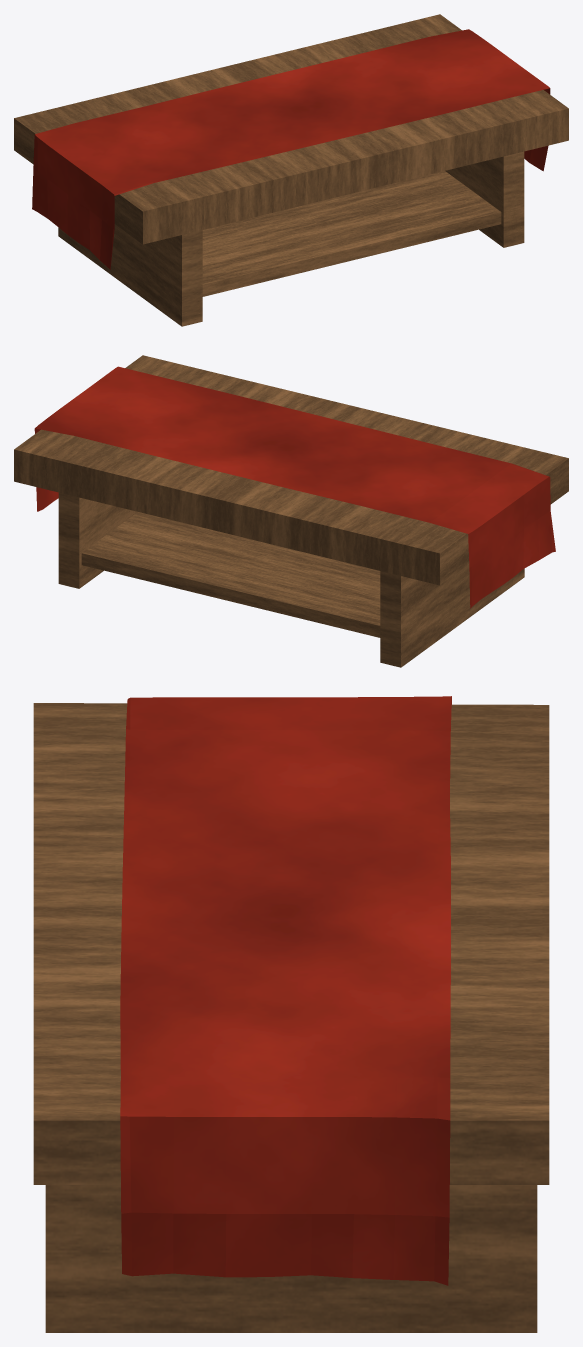
The model's file is MesaMantel.fbx.
3 views of the same model, one above another, from view 1: azimuth 30°, elevation 25°; view 2: azimuth 150°, elevation 25°; view 3: azimuth 270°, elevation 25° (orthographic). The views are drawn at different scales.
Visible parts, largest first — view 1: MesaMantel; view 2: MesaMantel; view 3: MesaMantel.
Part boxes in pixels (left/top/right/bottom): MesaMantel: left=14, top=14, right=568, bottom=326; MesaMantel: left=14, top=355, right=568, bottom=667; MesaMantel: left=33, top=696, right=549, bottom=1332.
Bounding box in the file's own units: 355 × 101 × 180.
Materials: 1 (1 with a texture image).
